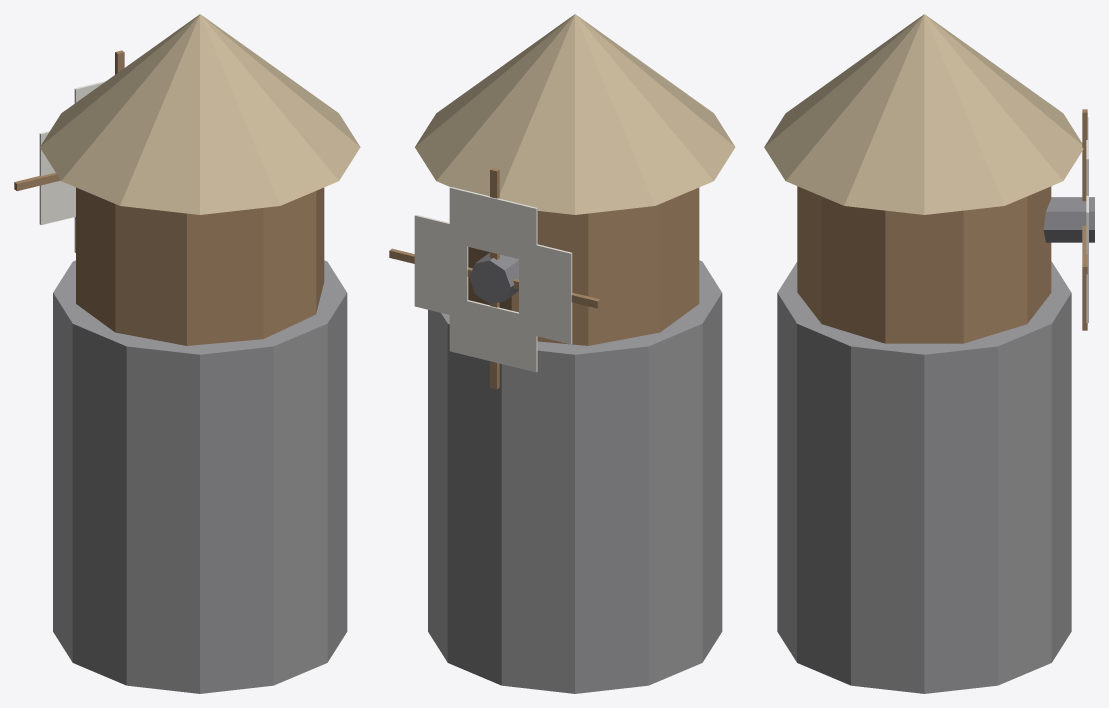
Rendered from windmill.glb.
The picture shows the model from 3 angles, left to right: view 1: azimuth 30°, elevation 25°; view 2: azimuth 150°, elevation 25°; view 3: azimuth 270°, elevation 25°; orthographic projection.
Visible parts, largest first — view 1: Cylinder, Cone, Cylinder.001, Cube.005; view 2: Cylinder, Cone, Cylinder.001, Cube.001, Cube.003, Cube.005, Cube.007, Cylinder.002, Cube.002, Cube; view 3: Cylinder, Cone, Cylinder.001, Cylinder.002.
Boxes of the visible parts, box(x1,y1,x2,y2) form: Cylinder: box(53, 260, 347, 693); Cone: box(40, 14, 360, 214); Cylinder.001: box(76, 187, 324, 345); Cube.005: box(39, 131, 75, 224); Cylinder: box(428, 260, 722, 693); Cone: box(415, 14, 735, 214); Cylinder.001: box(468, 187, 699, 345); Cube.001: box(414, 214, 468, 318); Cube.003: box(449, 187, 537, 263); Cube.005: box(519, 242, 572, 344); Cube.007: box(449, 297, 537, 372); Cylinder.002: box(469, 253, 518, 303); Cube.002: box(389, 248, 600, 308); Cube: box(490, 168, 499, 389); Cylinder: box(777, 261, 1071, 693); Cone: box(764, 14, 1083, 214); Cylinder.001: box(797, 186, 1051, 343); Cylinder.002: box(1043, 197, 1094, 242).
Size of the model in its own units: 2.4 by 5.1 by 2.47.
